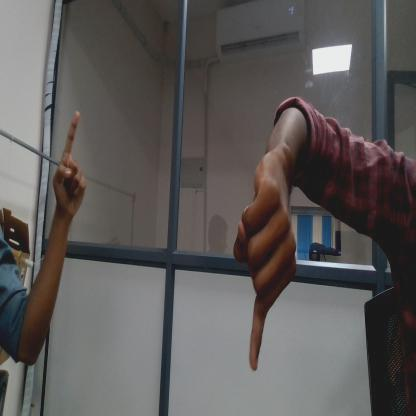Up: (56, 112, 88, 224)
